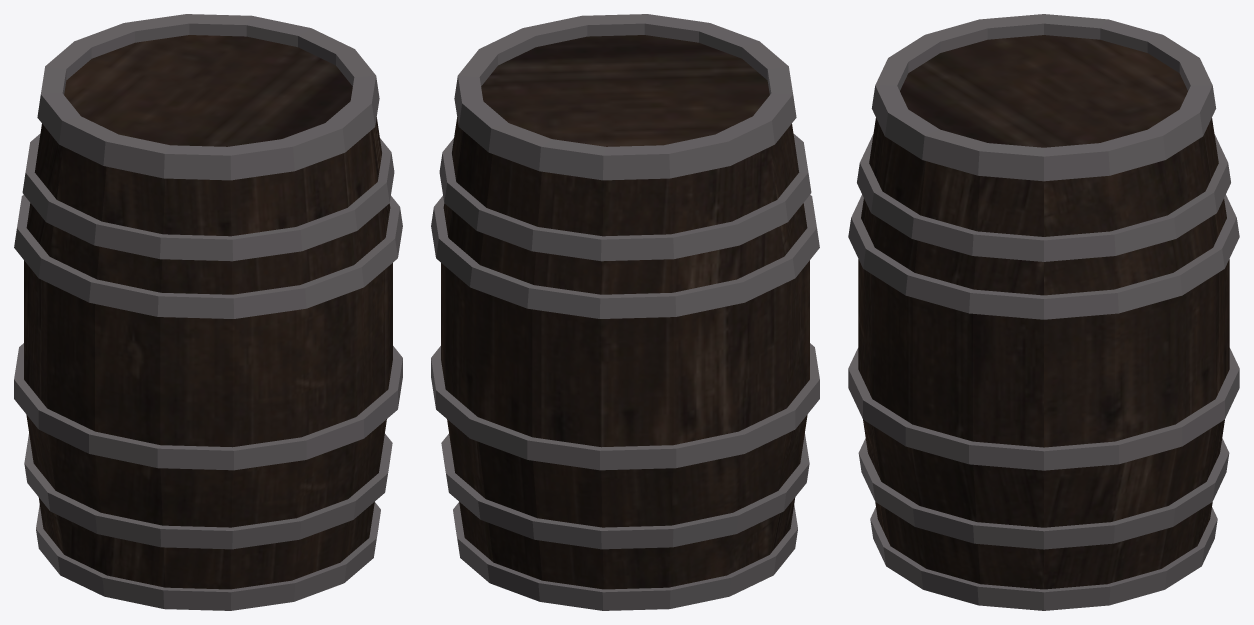
The model's file is Barrel.fbx.
3 renders of one model, left to right at view 1: azimuth 30°, elevation 25°; view 2: azimuth 150°, elevation 25°; view 3: azimuth 270°, elevation 25°, orthographic.
Visible parts, largest first — view 1: Barrel; view 2: Barrel; view 3: Barrel.
Boxes of the visible parts, x1,y1,x2,y2 form: Barrel: (14, 14, 402, 610); Barrel: (431, 14, 819, 610); Barrel: (848, 14, 1239, 610).
Bounding box in the file's own units: 240 × 306 × 240.
Materials: 2 (1 with a texture image).
